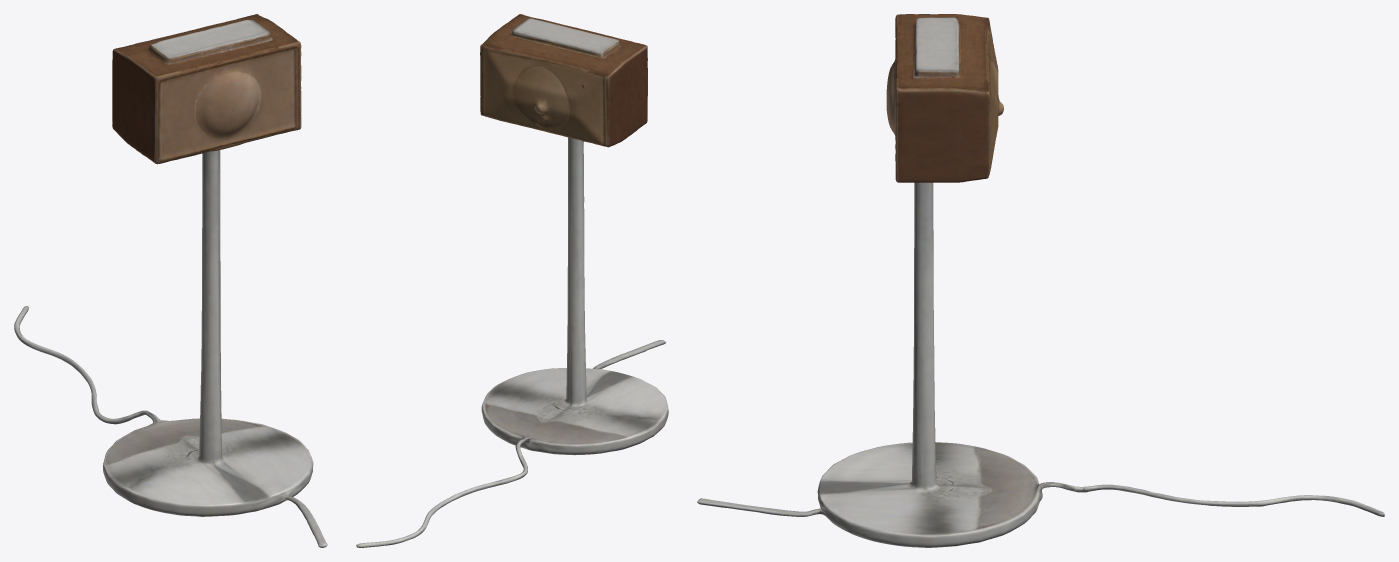
3 views of the same model, side by side, from view 1: azimuth 30°, elevation 25°; view 2: azimuth 150°, elevation 25°; view 3: azimuth 270°, elevation 25° (orthographic). The views are drawn at different scales.
Bounding box in the file's own units: 0.6561 × 1.49 × 2.01.
1 material, 1 textured.
